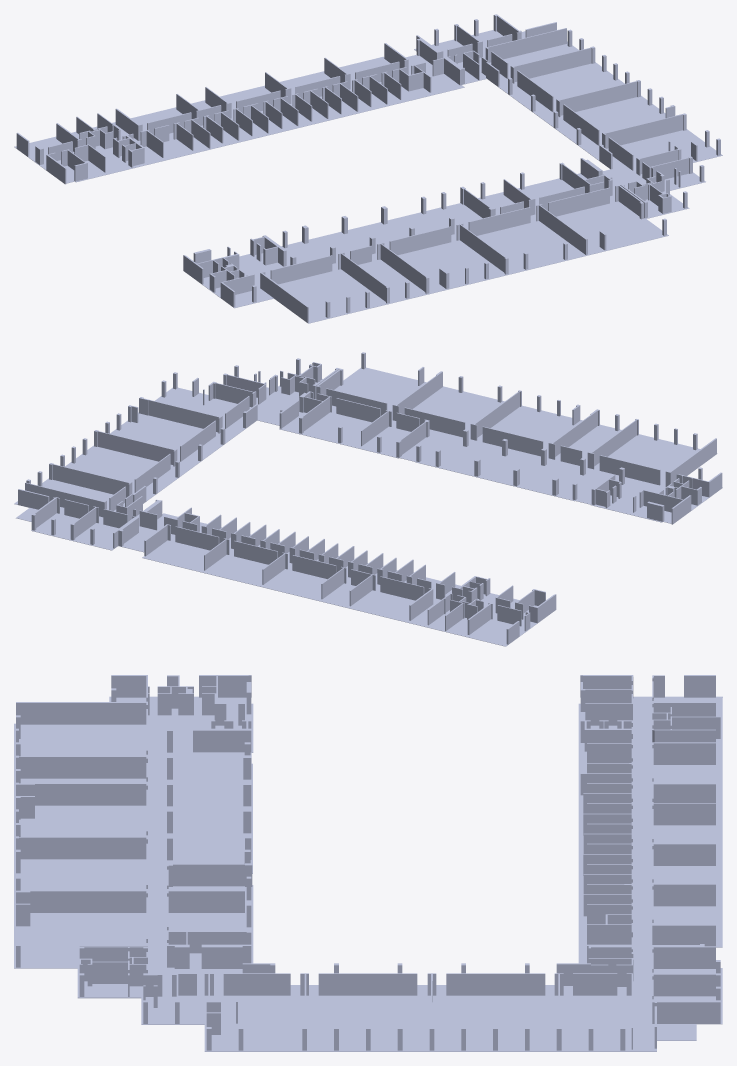
Rendered from fit4.FBX.
3 renders of one model, top to bottom at view 1: azimuth 30°, elevation 25°; view 2: azimuth 150°, elevation 25°; view 3: azimuth 270°, elevation 25°, orthographic. The views are drawn at different scales.
Visible parts, largest first — view 1: 凸台-拉伸2; view 2: 凸台-拉伸2; view 3: 凸台-拉伸2.
Boxes of the visible parts, x1,y1,x2,y2 form: 凸台-拉伸2: [14, 14, 722, 323]; 凸台-拉伸2: [14, 352, 722, 646]; 凸台-拉伸2: [14, 675, 722, 1051].
Size of the model in its own units: 4158 by 120 by 3510.
